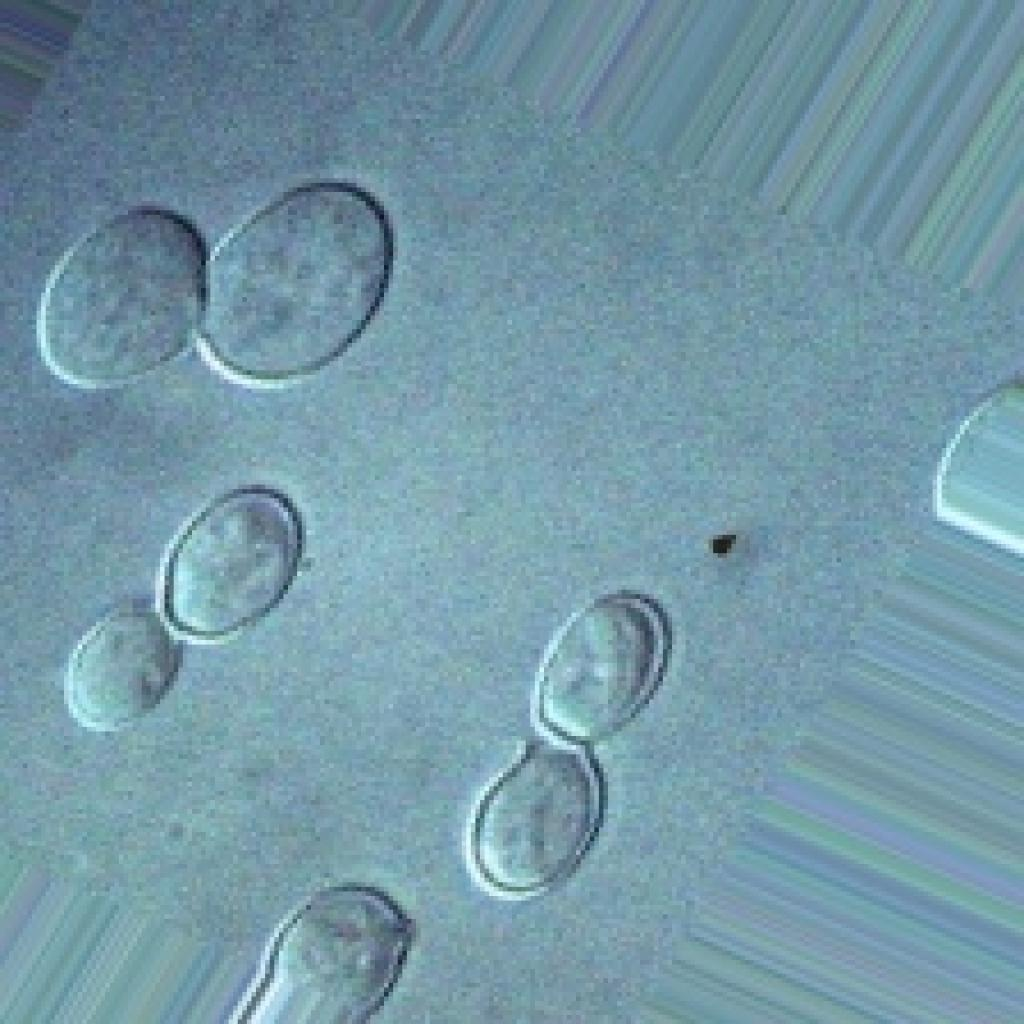Sphericalbacteria: (0, 130, 507, 394), (34, 440, 373, 750), (458, 593, 708, 926)
